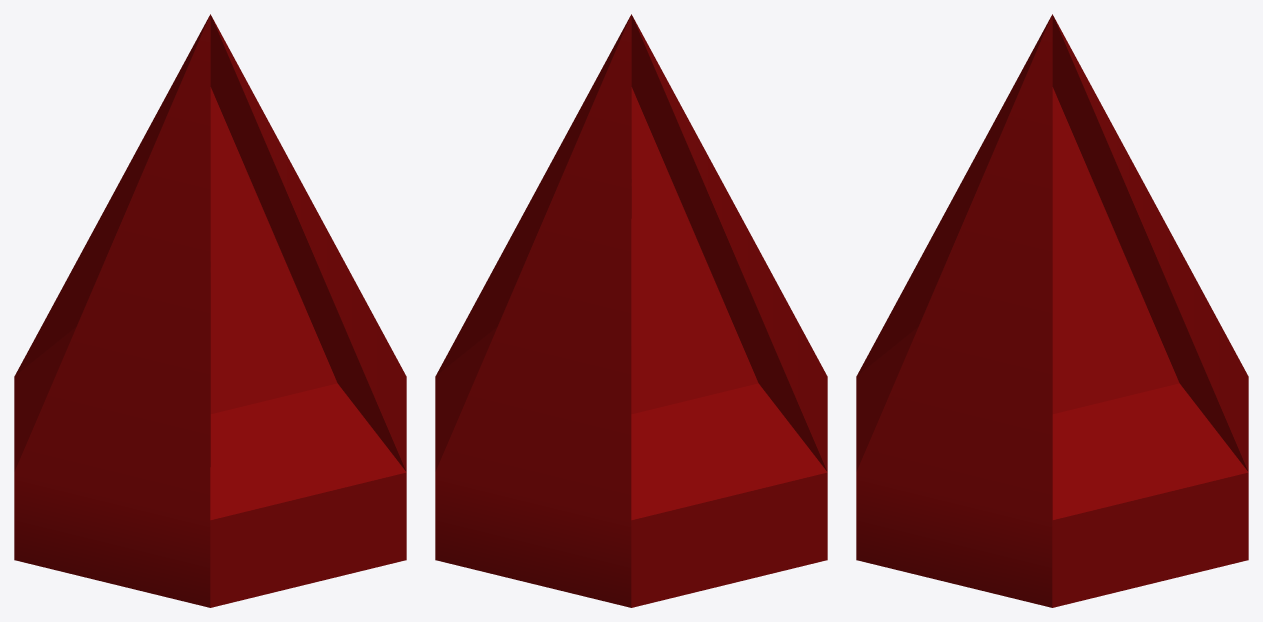
The model's file is Spikey Cone.fbx.
The picture shows the model from 3 angles, left to right: view 1: azimuth 30°, elevation 25°; view 2: azimuth 150°, elevation 25°; view 3: azimuth 270°, elevation 25°; orthographic projection.
Parts seen in each view (by area): view 1: SpikeyCone; view 2: SpikeyCone; view 3: SpikeyCone.
Part boxes in pixels (box(x1,y1,x2,y2)): SpikeyCone: box(14, 14, 406, 607); SpikeyCone: box(435, 14, 827, 607); SpikeyCone: box(856, 14, 1248, 607).
Size of the model in its own units: 2 by 2.43 by 1.73.
